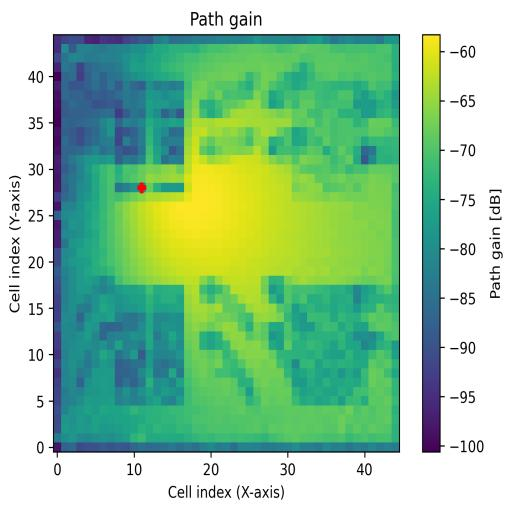Concrete: (292, 82, 361, 193)
Glass: (115, 81, 184, 192)
Metal: (291, 284, 370, 406)
Wood: (115, 284, 185, 408)
